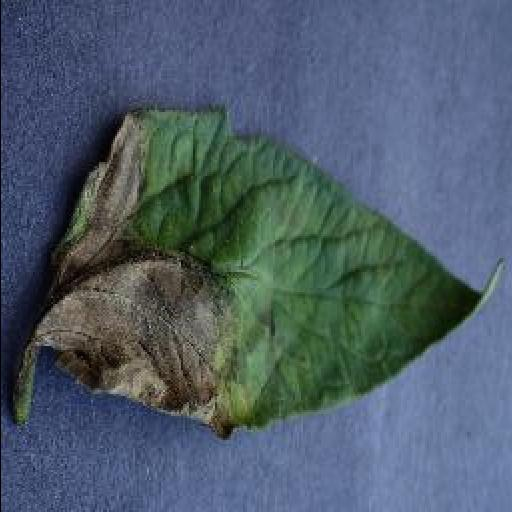disease_tomato: (11, 98, 509, 442)
